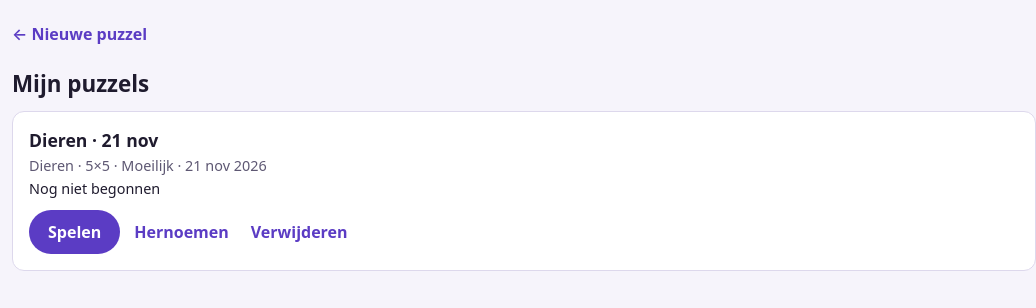
Test case: SavedPuzzlesScreen › renames a puzzle
Click the button "Hernoemen".
click(182, 232)  # box [126,210,237,254]
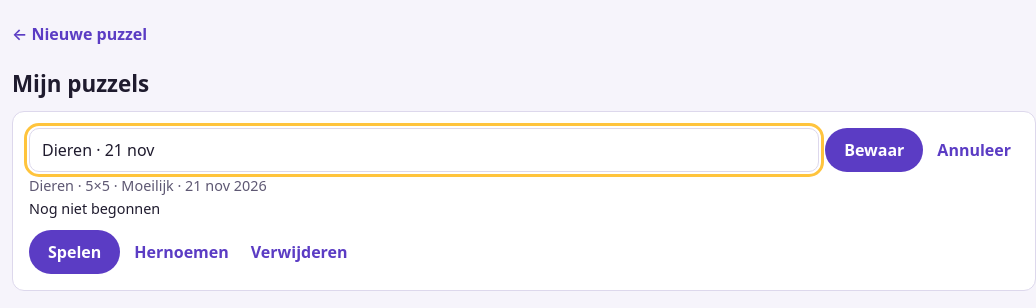
Replace the text in the field named "Nieuwe naam" with "Voor oma" at (424, 150), box [29,128,819,172]
Then press Enter
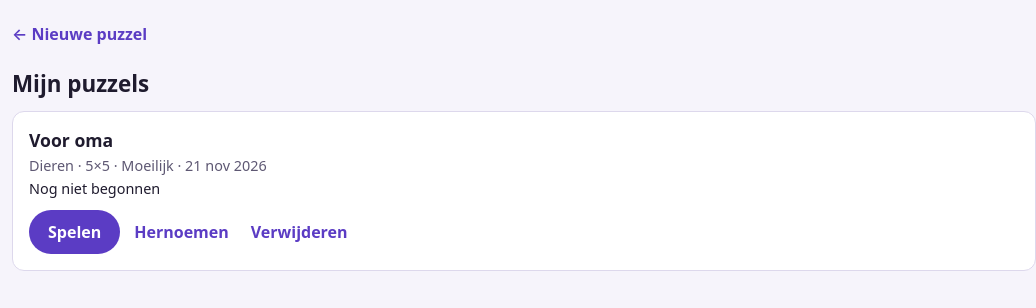
Now the heading "Voor oma" is shown, box [29,128,113,152]
